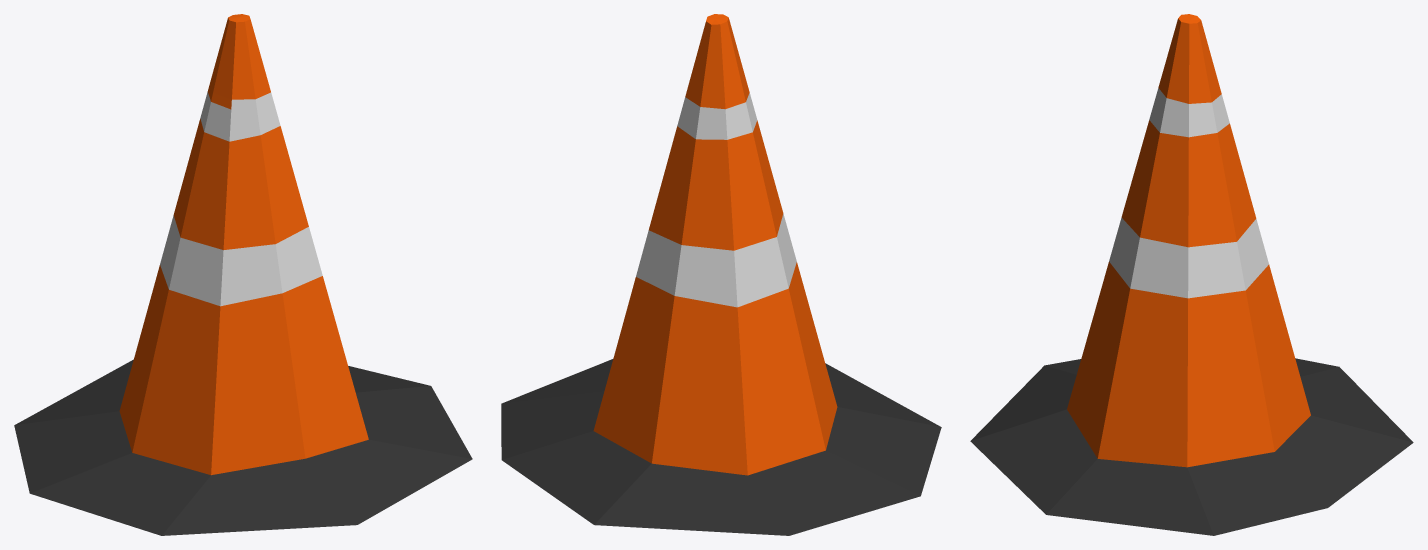
File: conito.fbx
3 views of the same model, side by side, from view 1: azimuth 30°, elevation 25°; view 2: azimuth 150°, elevation 25°; view 3: azimuth 270°, elevation 25° (orthographic).
Parts seen in each view (by area): view 1: Cone.001; view 2: Cone.001; view 3: Cone.001.
Boxes of the visible parts, <box> form: Cone.001: <box>14,14,472,535</box>; Cone.001: <box>501,14,941,535</box>; Cone.001: <box>970,14,1413,535</box>.
Size of the model in its own units: 184 by 183 by 175.
